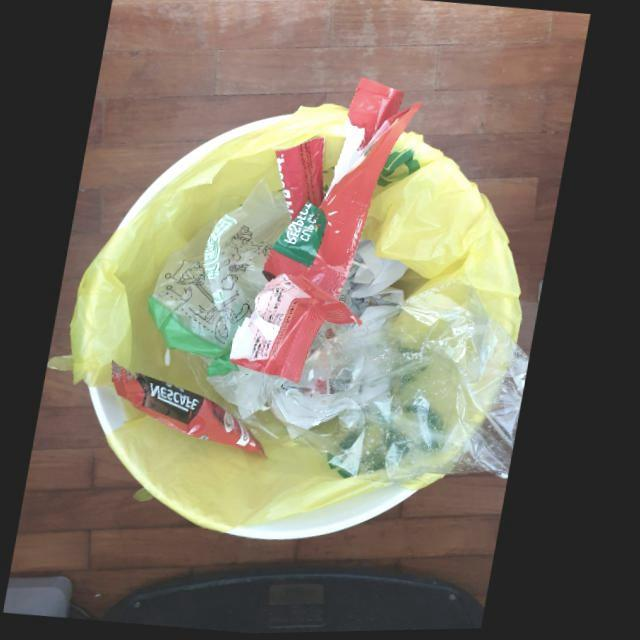plastic_bag: (248, 272, 535, 481), (147, 176, 292, 377)
plastic_sachet: (232, 79, 424, 389), (117, 361, 270, 452)
